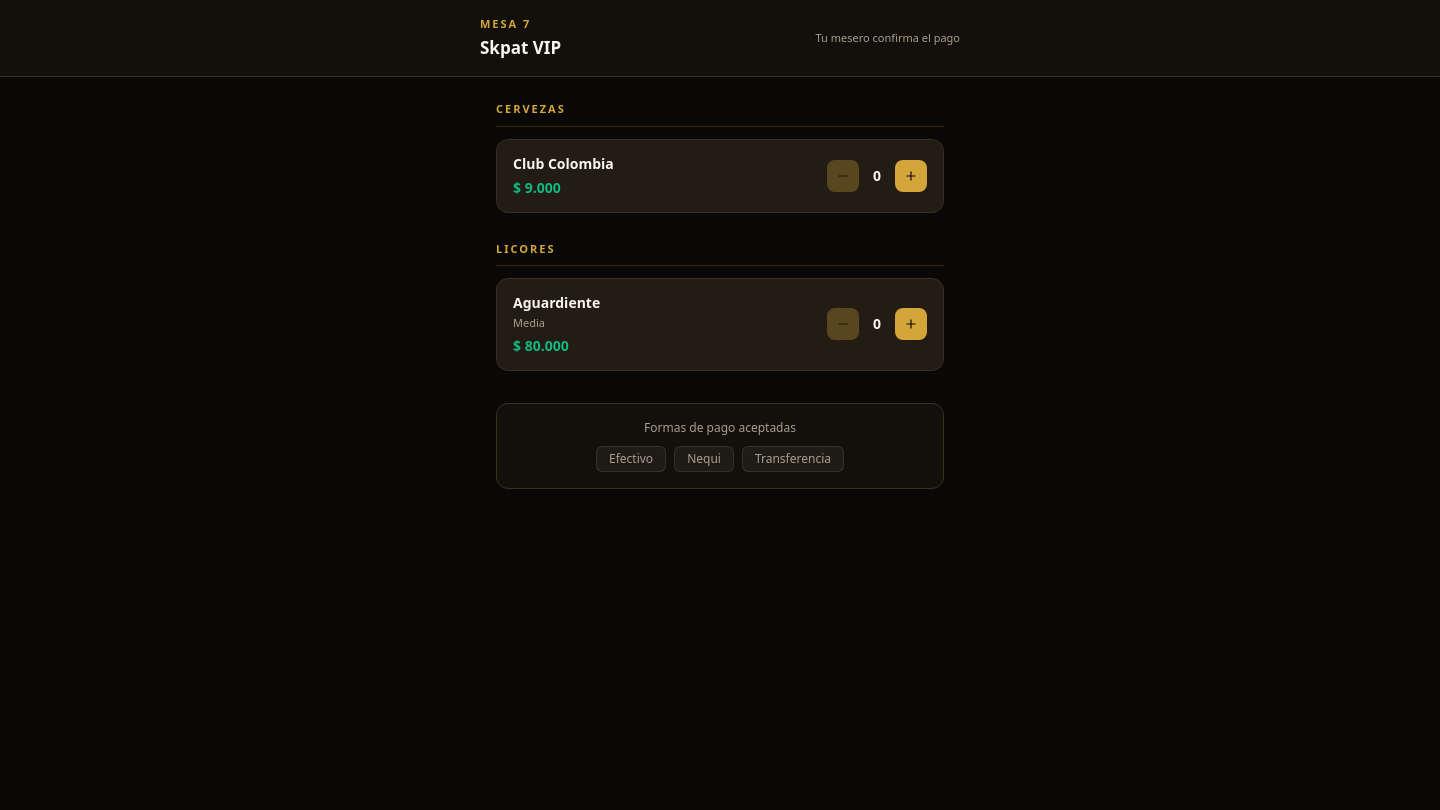
Test: CartaPage › muestra un error y conserva el carrito si el envío falla
Click the button named "Agregar Club Colombia" at (911, 176), box [895, 160, 927, 192]
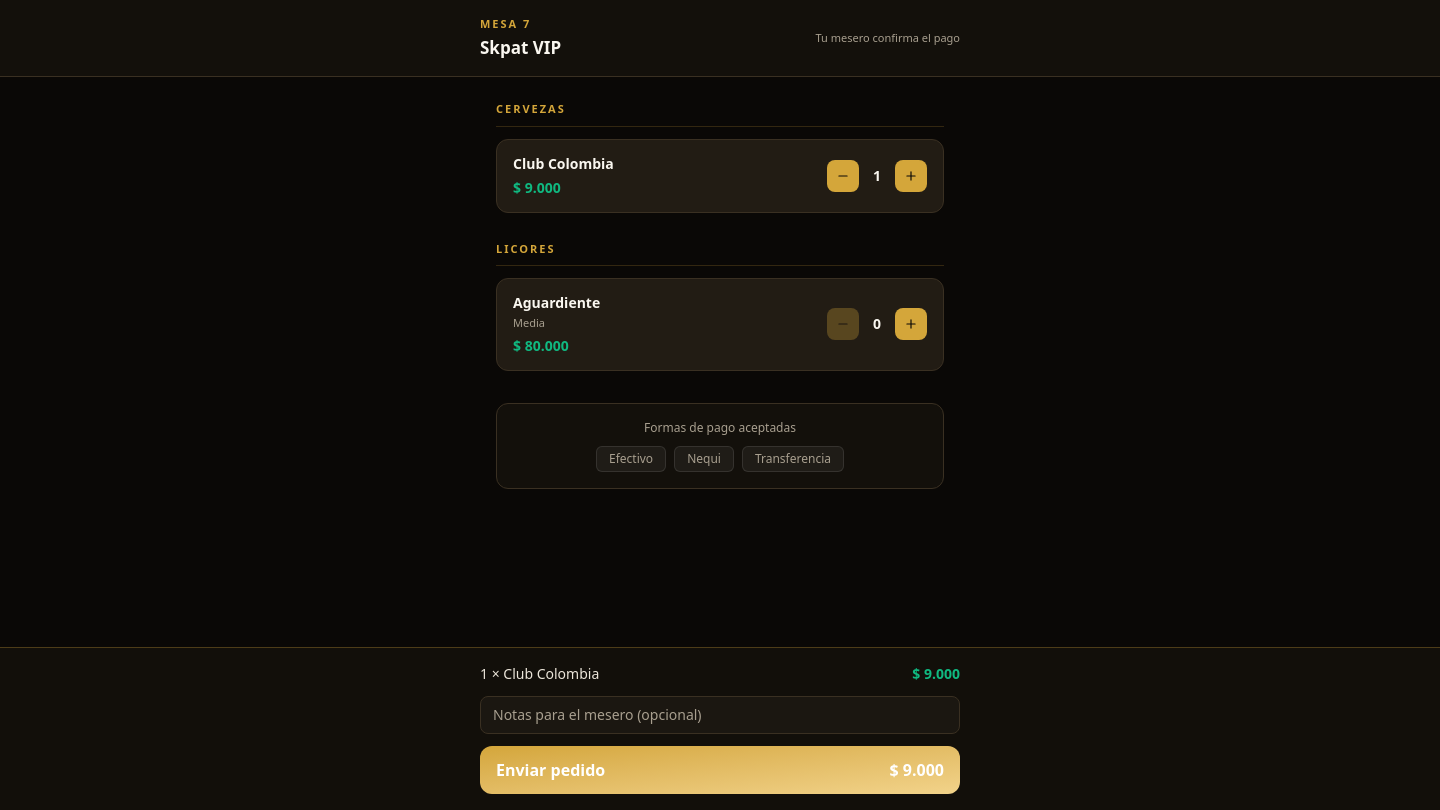
Click the button "Enviar pedido $ 9.000" at (551, 770), box [480, 746, 960, 794]
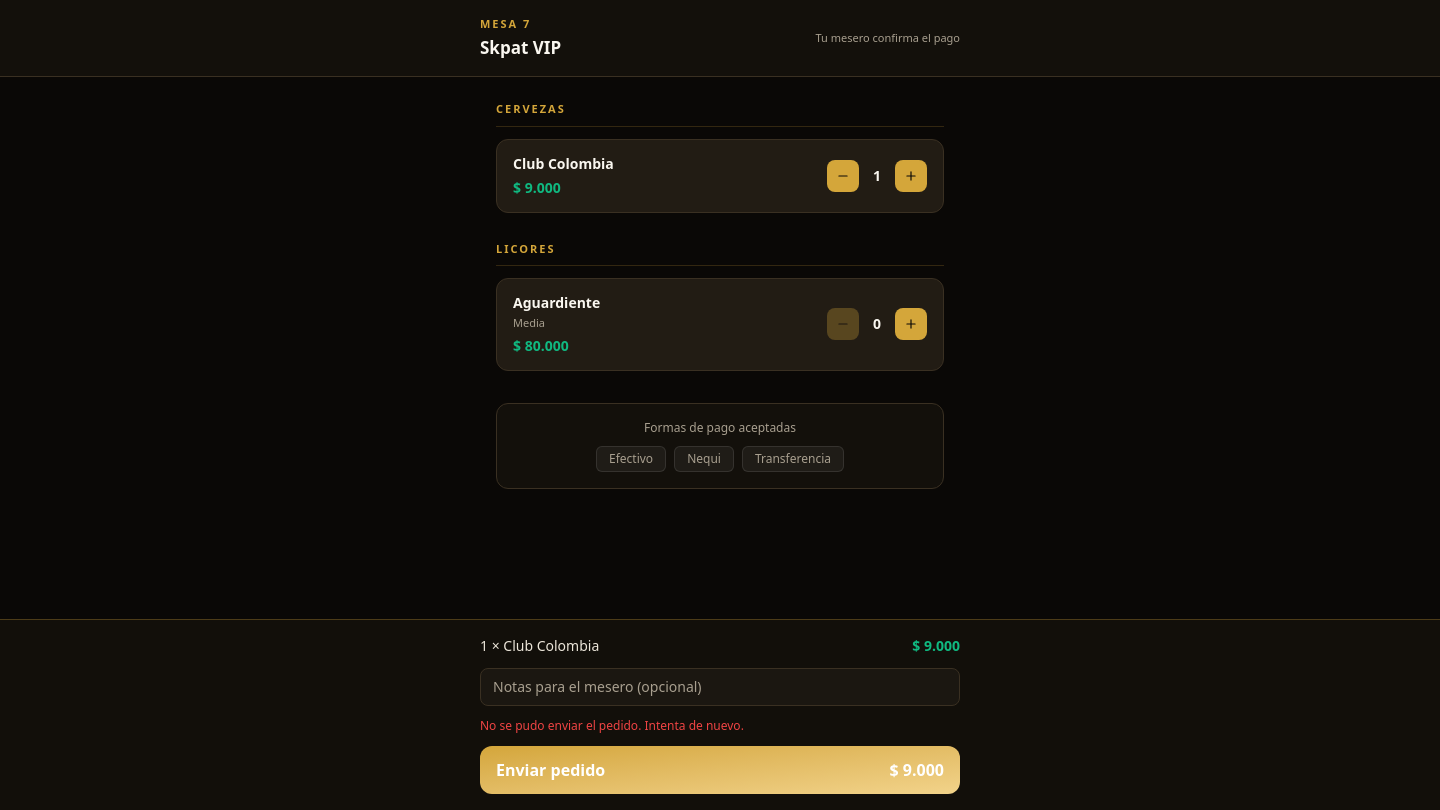
Now the element with test id "order-cart" is shown, box [0, 619, 1439, 809]
Now the message shows "No se pudo enviar", box [480, 717, 744, 734]
